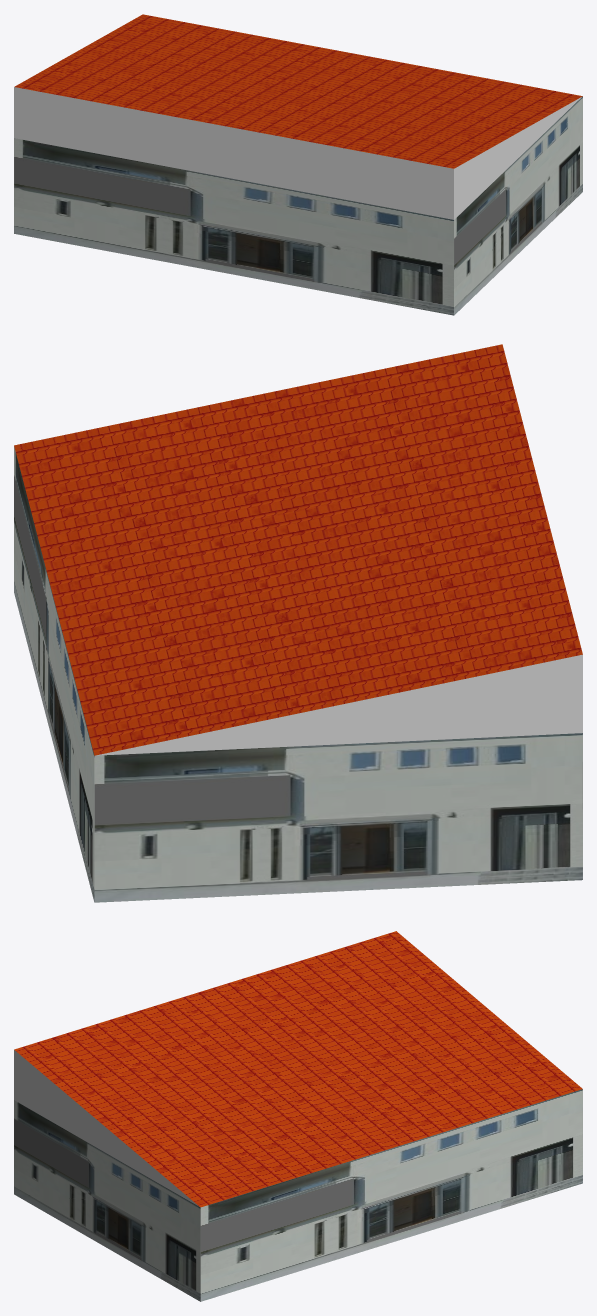
The picture shows the model from 3 angles, top to bottom: view 1: azimuth 30°, elevation 25°; view 2: azimuth 150°, elevation 25°; view 3: azimuth 270°, elevation 25°; orthographic projection. The views are drawn at different scales.
Parts seen in each view (by area): view 1: CityEngineMaterial_11_m, CityEngineMaterial_12_m, CityEngineMaterial_3_m; view 2: CityEngineMaterial_12_m, CityEngineMaterial_11_m, CityEngineMaterial_3_m; view 3: CityEngineMaterial_12_m, CityEngineMaterial_11_m, CityEngineMaterial_3_m.
Boxes of the visible parts, x1=… form: CityEngineMaterial_11_m: x1=14, y1=96, x2=582, y2=315; CityEngineMaterial_12_m: x1=14, y1=14, x2=582, y2=168; CityEngineMaterial_3_m: x1=14, y1=87, x2=582, y2=219; CityEngineMaterial_12_m: x1=14, y1=344, x2=582, y2=755; CityEngineMaterial_11_m: x1=14, y1=446, x2=582, y2=902; CityEngineMaterial_3_m: x1=96, y1=654, x2=582, y2=755; CityEngineMaterial_12_m: x1=14, y1=931, x2=582, y2=1207; CityEngineMaterial_11_m: x1=14, y1=1089, x2=582, y2=1301; CityEngineMaterial_3_m: x1=14, y1=1050, x2=199, y2=1206.
Bounding box in the file's own units: 29.48 × 8.81 × 31.36.
